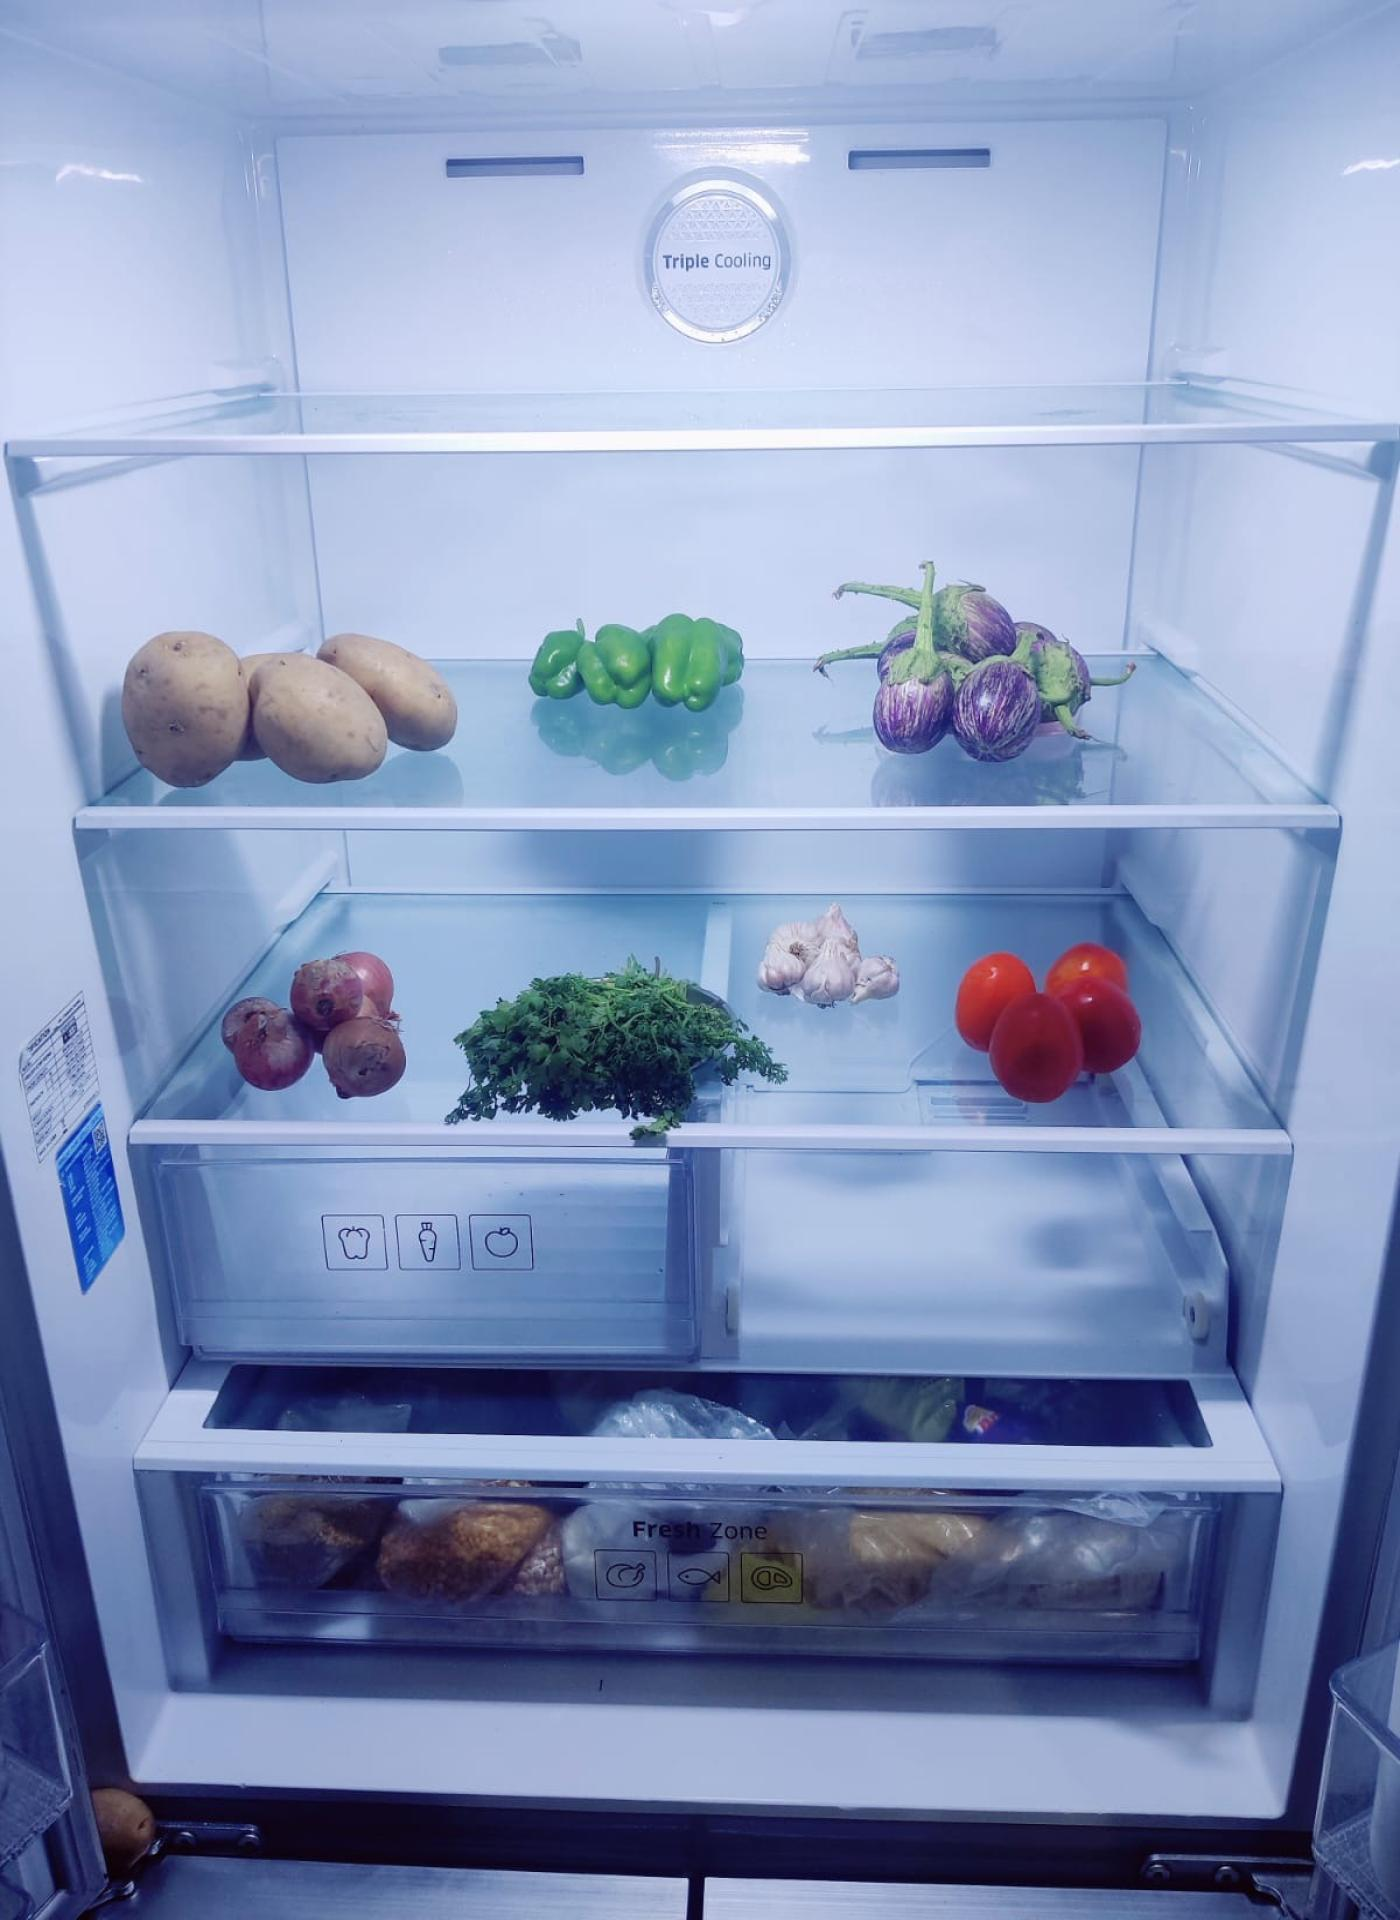brinjal: (833, 575, 1075, 757)
capsicum: (532, 610, 751, 714)
coriander: (462, 966, 775, 1122)
ginger: (762, 905, 902, 1006)
onion: (225, 948, 412, 1097)
potato: (125, 617, 467, 778)
tomato: (951, 944, 1142, 1105)
